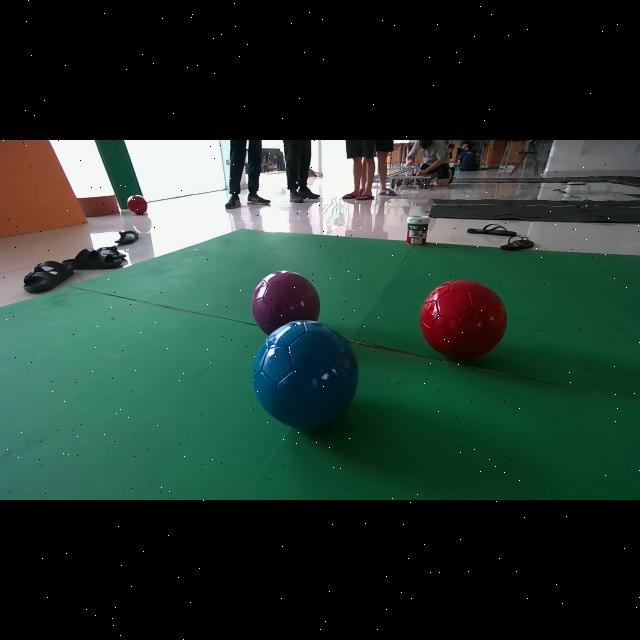P: (252, 270, 320, 334)
R: (253, 321, 357, 429), (419, 279, 507, 360), (127, 195, 147, 215)
